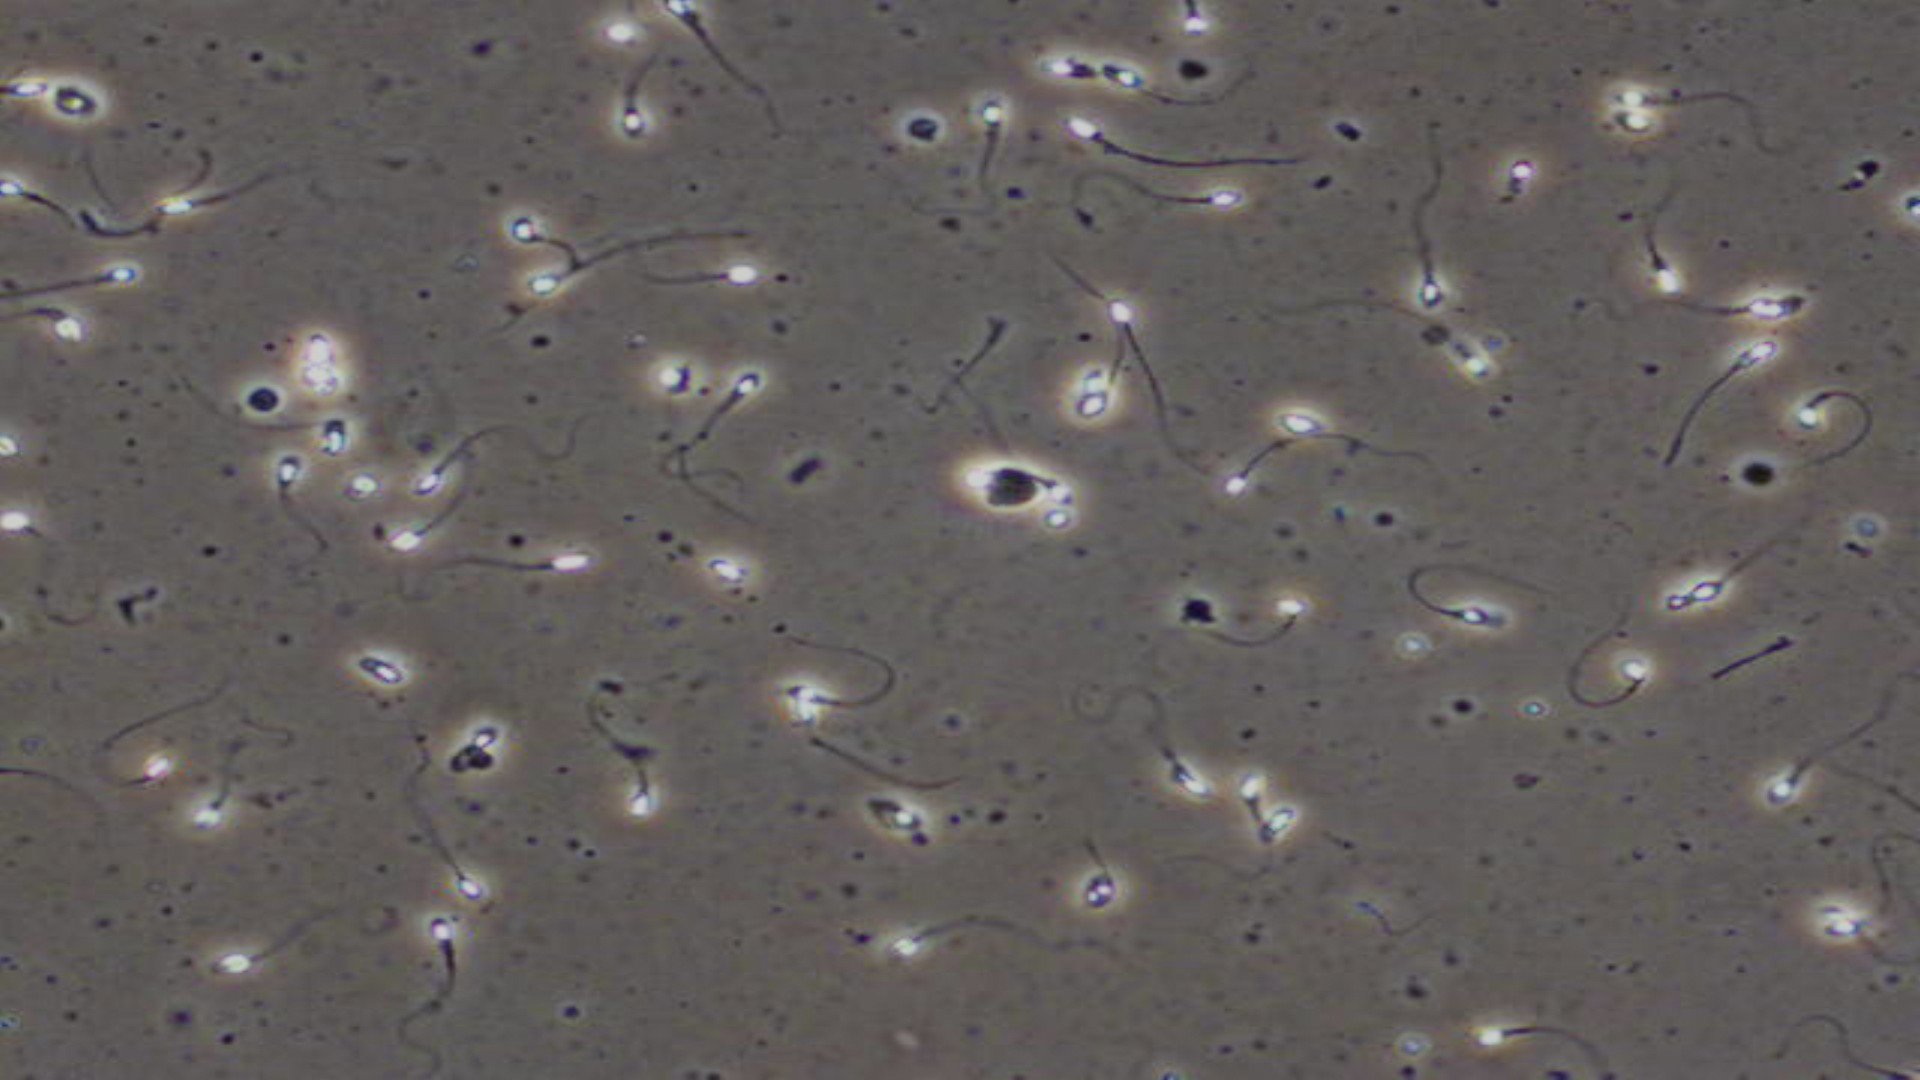sperm: (659, 3, 796, 131), (1056, 105, 1236, 177), (1663, 334, 1789, 429), (959, 86, 1043, 225), (1753, 721, 1863, 827), (98, 695, 207, 800), (400, 781, 487, 905), (411, 911, 488, 1050), (578, 716, 684, 814), (390, 539, 603, 588), (1102, 291, 1203, 393), (1062, 171, 1254, 224), (1112, 698, 1218, 793), (253, 446, 336, 567), (682, 371, 789, 463), (1385, 175, 1451, 320), (189, 909, 311, 984), (1564, 616, 1658, 713), (1809, 866, 1911, 953), (778, 646, 907, 707), (1622, 193, 1698, 291), (1, 253, 152, 302), (483, 202, 589, 270), (1476, 1021, 1625, 1069), (402, 427, 504, 498), (860, 911, 1000, 963), (1803, 385, 1886, 467), (1407, 563, 1505, 632), (597, 61, 679, 142), (1636, 286, 1807, 324), (1218, 429, 1303, 500), (1613, 74, 1745, 117), (378, 493, 462, 560), (186, 749, 249, 833), (500, 255, 607, 301), (649, 262, 764, 303), (7, 307, 100, 353), (154, 189, 277, 218), (1017, 473, 1093, 506)
